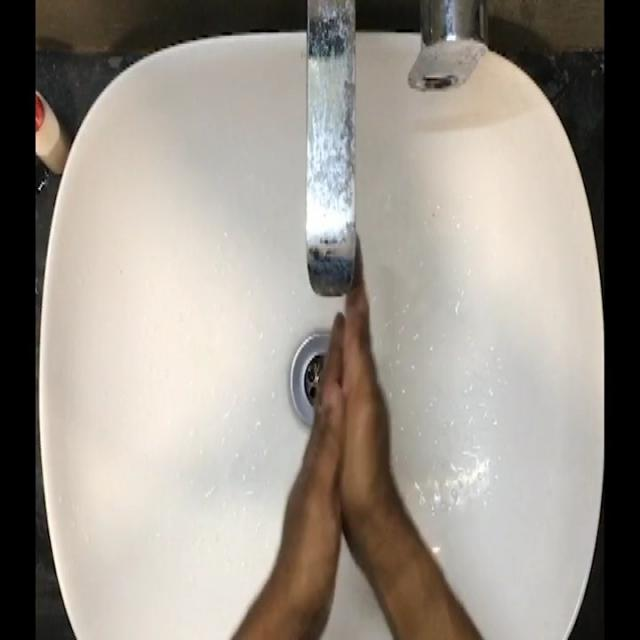step_1: (274, 200, 399, 527)
